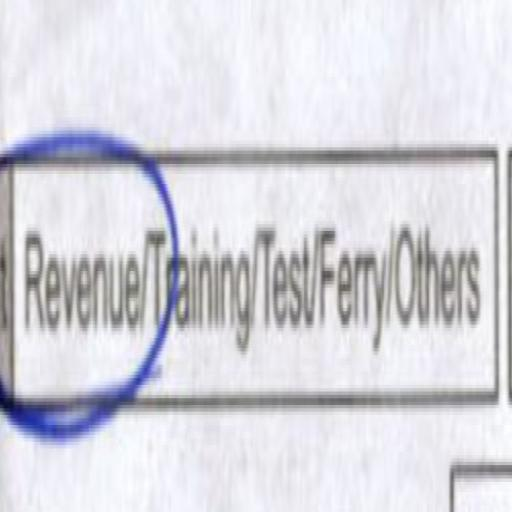check: (22, 74, 146, 443)
